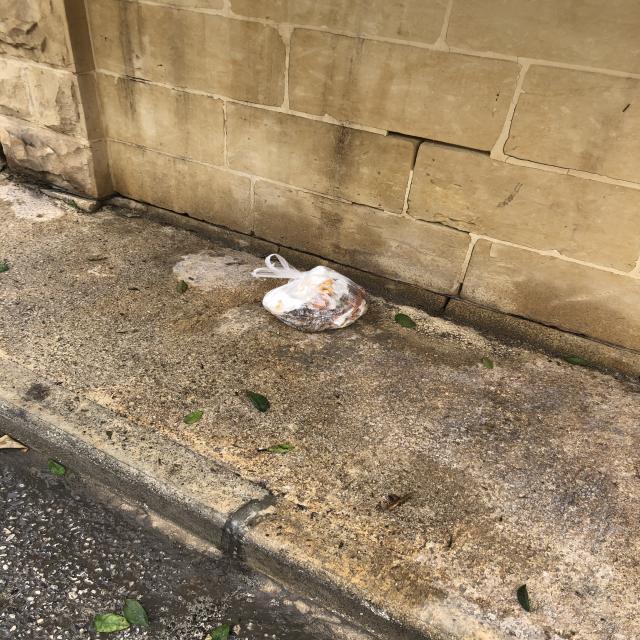Organic Waste -White Bag-: (253, 254, 370, 334)
